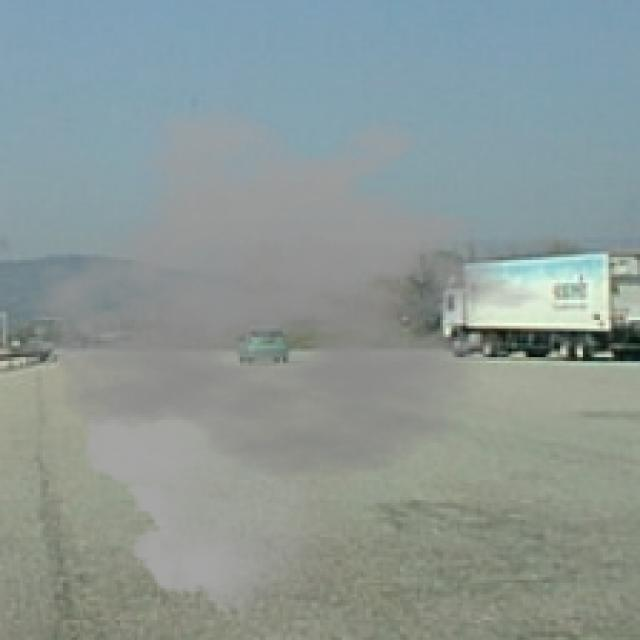Smoke: (14, 103, 569, 620)
